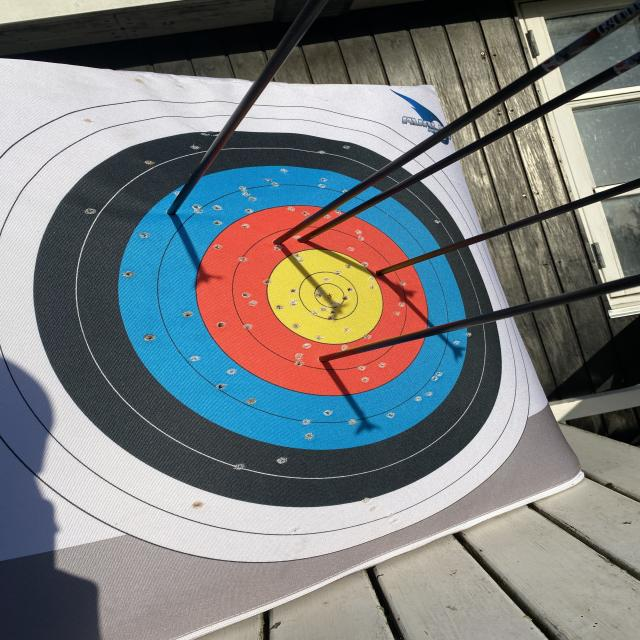Arrow_Blue: (150, 194, 207, 232)
Arrow_Red: (306, 343, 355, 371), (366, 256, 399, 290), (256, 226, 293, 256), (293, 218, 322, 255)
